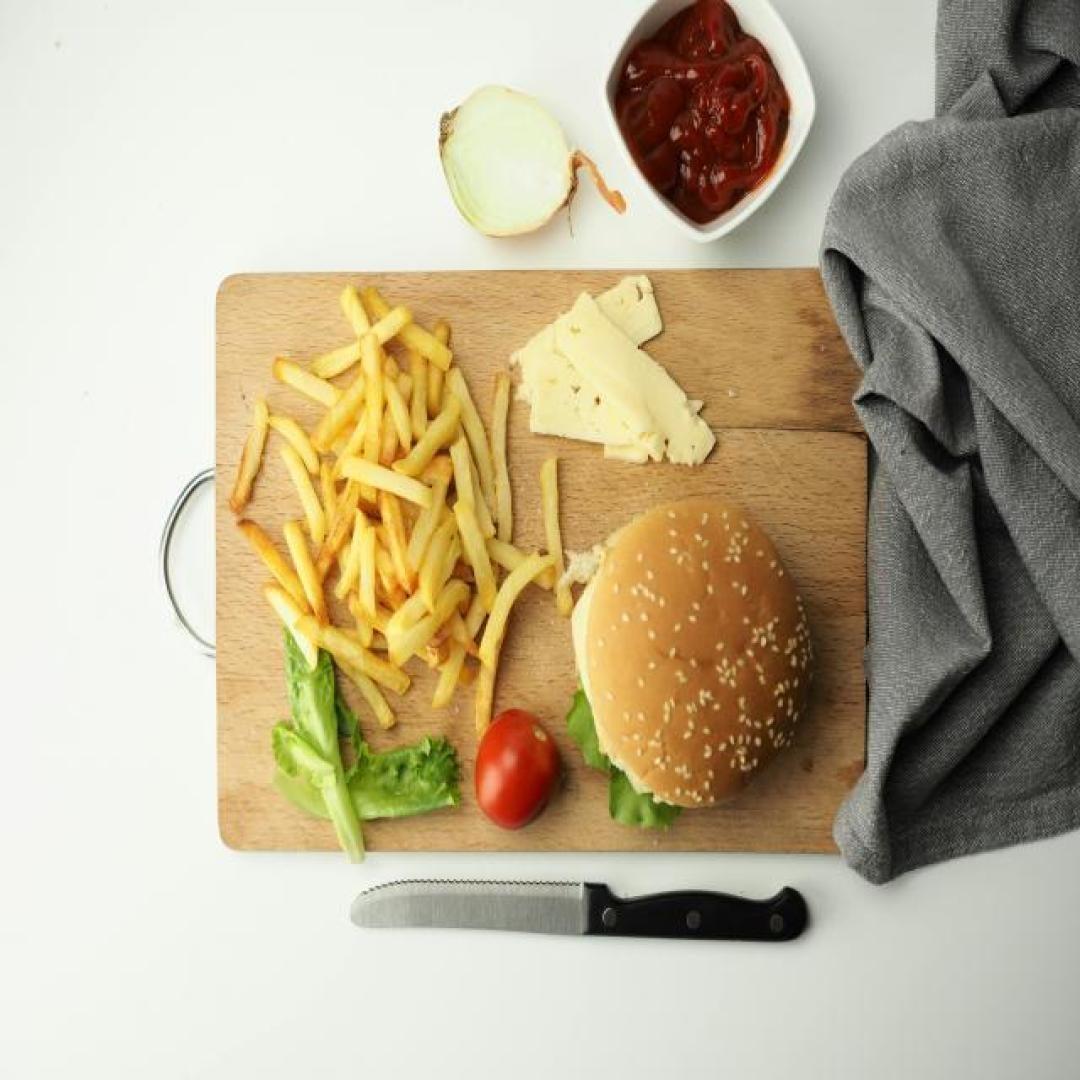matang: (476, 709, 562, 832)
